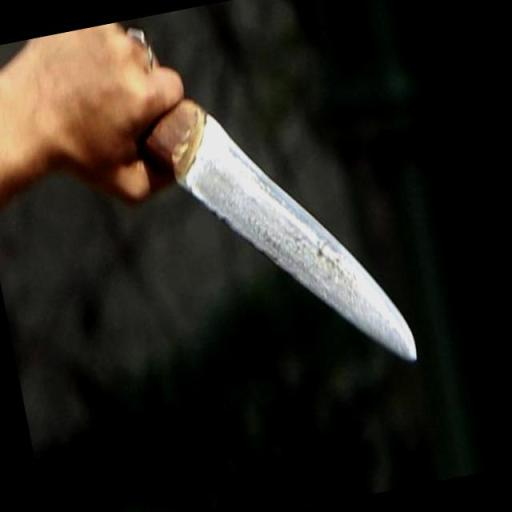knife: (124, 60, 418, 404)
